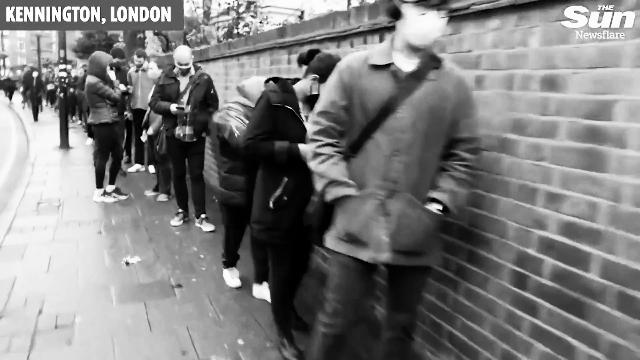berdiri: (152, 44, 220, 238)
